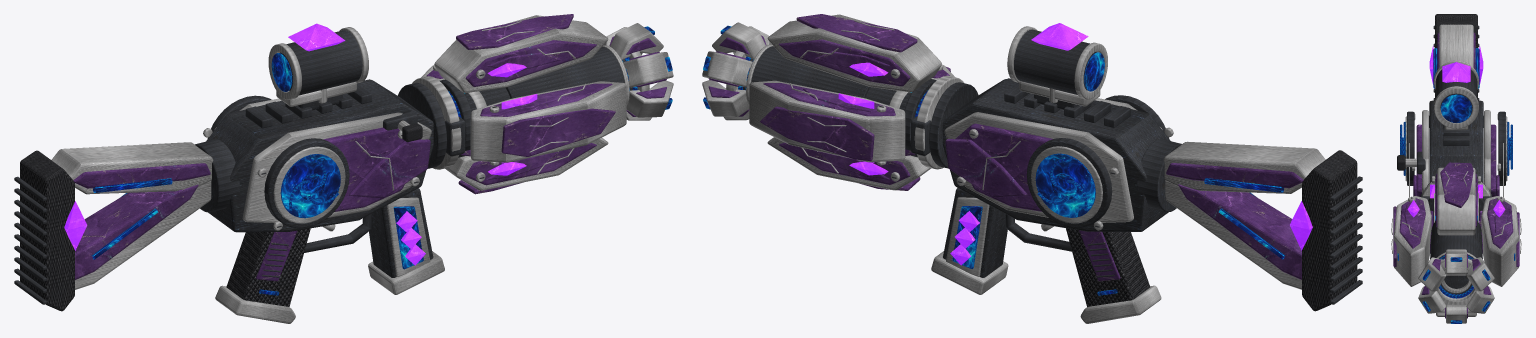
The model's file is prism-assault.glb.
The picture shows the model from 3 angles, left to right: view 1: azimuth 30°, elevation 25°; view 2: azimuth 150°, elevation 25°; view 3: azimuth 270°, elevation 25°; orthographic projection. The views are drawn at different scales.
Parts seen in each view (by area): view 1: Runtime_PRISM_ROOT_03, Runtime_PRISM_ROOT_04, Runtime_PRISM_ROOT_01, Runtime_PRISM_ROOT_05, Runtime_Armour_petal_03_01, Runtime_Armour_petal_03_04, Runtime_Armour_petal_00_01, Runtime_Armour_petal_00_04, Runtime_PRISM_ROOT_06, Runtime_Optic_lift_03, Runtime_Front receiver coupling_03, Runtime_PRISM_ROOT_02 (+20 smaller); view 2: Runtime_PRISM_ROOT_03, Runtime_PRISM_ROOT_04, Runtime_PRISM_ROOT_01, Runtime_PRISM_ROOT_05, Runtime_Armour_petal_01_01, Runtime_Armour_petal_01_04, Runtime_Armour_petal_00_01, Runtime_Armour_petal_00_04, Runtime_PRISM_ROOT_06, Runtime_Optic_lift_03, Runtime_Front receiver coupling_03, Runtime_PRISM_ROOT_02 (+20 smaller); view 3: Runtime_PRISM_ROOT_03, Runtime_PRISM_ROOT_04, Runtime_Armour_petal_01_04, Runtime_Armour_petal_03_04, Runtime_Armour_petal_00_04, Runtime_Armour_petal_00_01, Runtime_Optic_lift_04, Runtime_PRISM_ROOT_01, Runtime_Armour_petal_03_01, Runtime_Armour_petal_01_01, Runtime_Optic_lift_06, Runtime_PRISM_ROOT_05 (+32 smaller).
Boxes of the visible parts, x1=… form: Runtime_PRISM_ROOT_03: x1=14, y1=79, x2=433, y2=304; Runtime_PRISM_ROOT_04: x1=51, y1=88, x2=431, y2=323; Runtime_PRISM_ROOT_01: x1=73, y1=127, x2=420, y2=281; Runtime_PRISM_ROOT_05: x1=20, y1=150, x2=310, y2=311; Runtime_Armour_petal_03_01: x1=480, y1=83, x2=615, y2=156; Runtime_Armour_petal_03_04: x1=470, y1=81, x2=626, y2=165; Runtime_Armour_petal_00_01: x1=456, y1=14, x2=596, y2=86; Runtime_Armour_petal_00_04: x1=434, y1=15, x2=608, y2=92; Runtime_PRISM_ROOT_06: x1=91, y1=154, x2=340, y2=295; Runtime_Optic_lift_03: x1=280, y1=30, x2=362, y2=95; Runtime_Front receiver coupling_03: x1=398, y1=79, x2=471, y2=168; Runtime_PRISM_ROOT_02: x1=349, y1=139, x2=430, y2=198; Runtime_PRISM_ROOT_03: x1=942, y1=79, x2=1362, y2=304; Runtime_PRISM_ROOT_04: x1=944, y1=88, x2=1325, y2=323; Runtime_PRISM_ROOT_01: x1=955, y1=123, x2=1303, y2=281; Runtime_PRISM_ROOT_05: x1=1066, y1=150, x2=1357, y2=311; Runtime_Armour_petal_01_01: x1=760, y1=83, x2=895, y2=160; Runtime_Armour_petal_01_04: x1=749, y1=80, x2=905, y2=165; Runtime_Armour_petal_00_01: x1=779, y1=14, x2=917, y2=86; Runtime_Armour_petal_00_04: x1=767, y1=14, x2=941, y2=92; Runtime_PRISM_ROOT_06: x1=1035, y1=153, x2=1285, y2=295; Runtime_Optic_lift_03: x1=1014, y1=29, x2=1096, y2=94; Runtime_Front receiver coupling_03: x1=904, y1=79, x2=978, y2=168; Runtime_PRISM_ROOT_02: x1=945, y1=139, x2=1027, y2=197; Runtime_PRISM_ROOT_03: x1=1407, y1=25, x2=1505, y2=185; Runtime_PRISM_ROOT_04: x1=1405, y1=24, x2=1507, y2=193; Runtime_Armour_petal_01_04: x1=1481, y1=196, x2=1519, y2=286; Runtime_Armour_petal_03_04: x1=1393, y1=196, x2=1431, y2=286; Runtime_Armour_petal_00_04: x1=1432, y1=167, x2=1480, y2=235; Runtime_Armour_petal_00_01: x1=1436, y1=162, x2=1476, y2=227; Runtime_Optic_lift_04: x1=1434, y1=60, x2=1478, y2=130; Runtime_PRISM_ROOT_01: x1=1416, y1=32, x2=1496, y2=196; Runtime_Armour_petal_03_01: x1=1393, y1=198, x2=1425, y2=266; Runtime_Armour_petal_01_01: x1=1487, y1=198, x2=1519, y2=266; Runtime_Optic_lift_06: x1=1440, y1=94, x2=1472, y2=122; Runtime_PRISM_ROOT_05: x1=1435, y1=14, x2=1477, y2=99.
Size of the model in its own units: 6.02 by 2.59 by 1.37.
9 materials, 9 textured.
